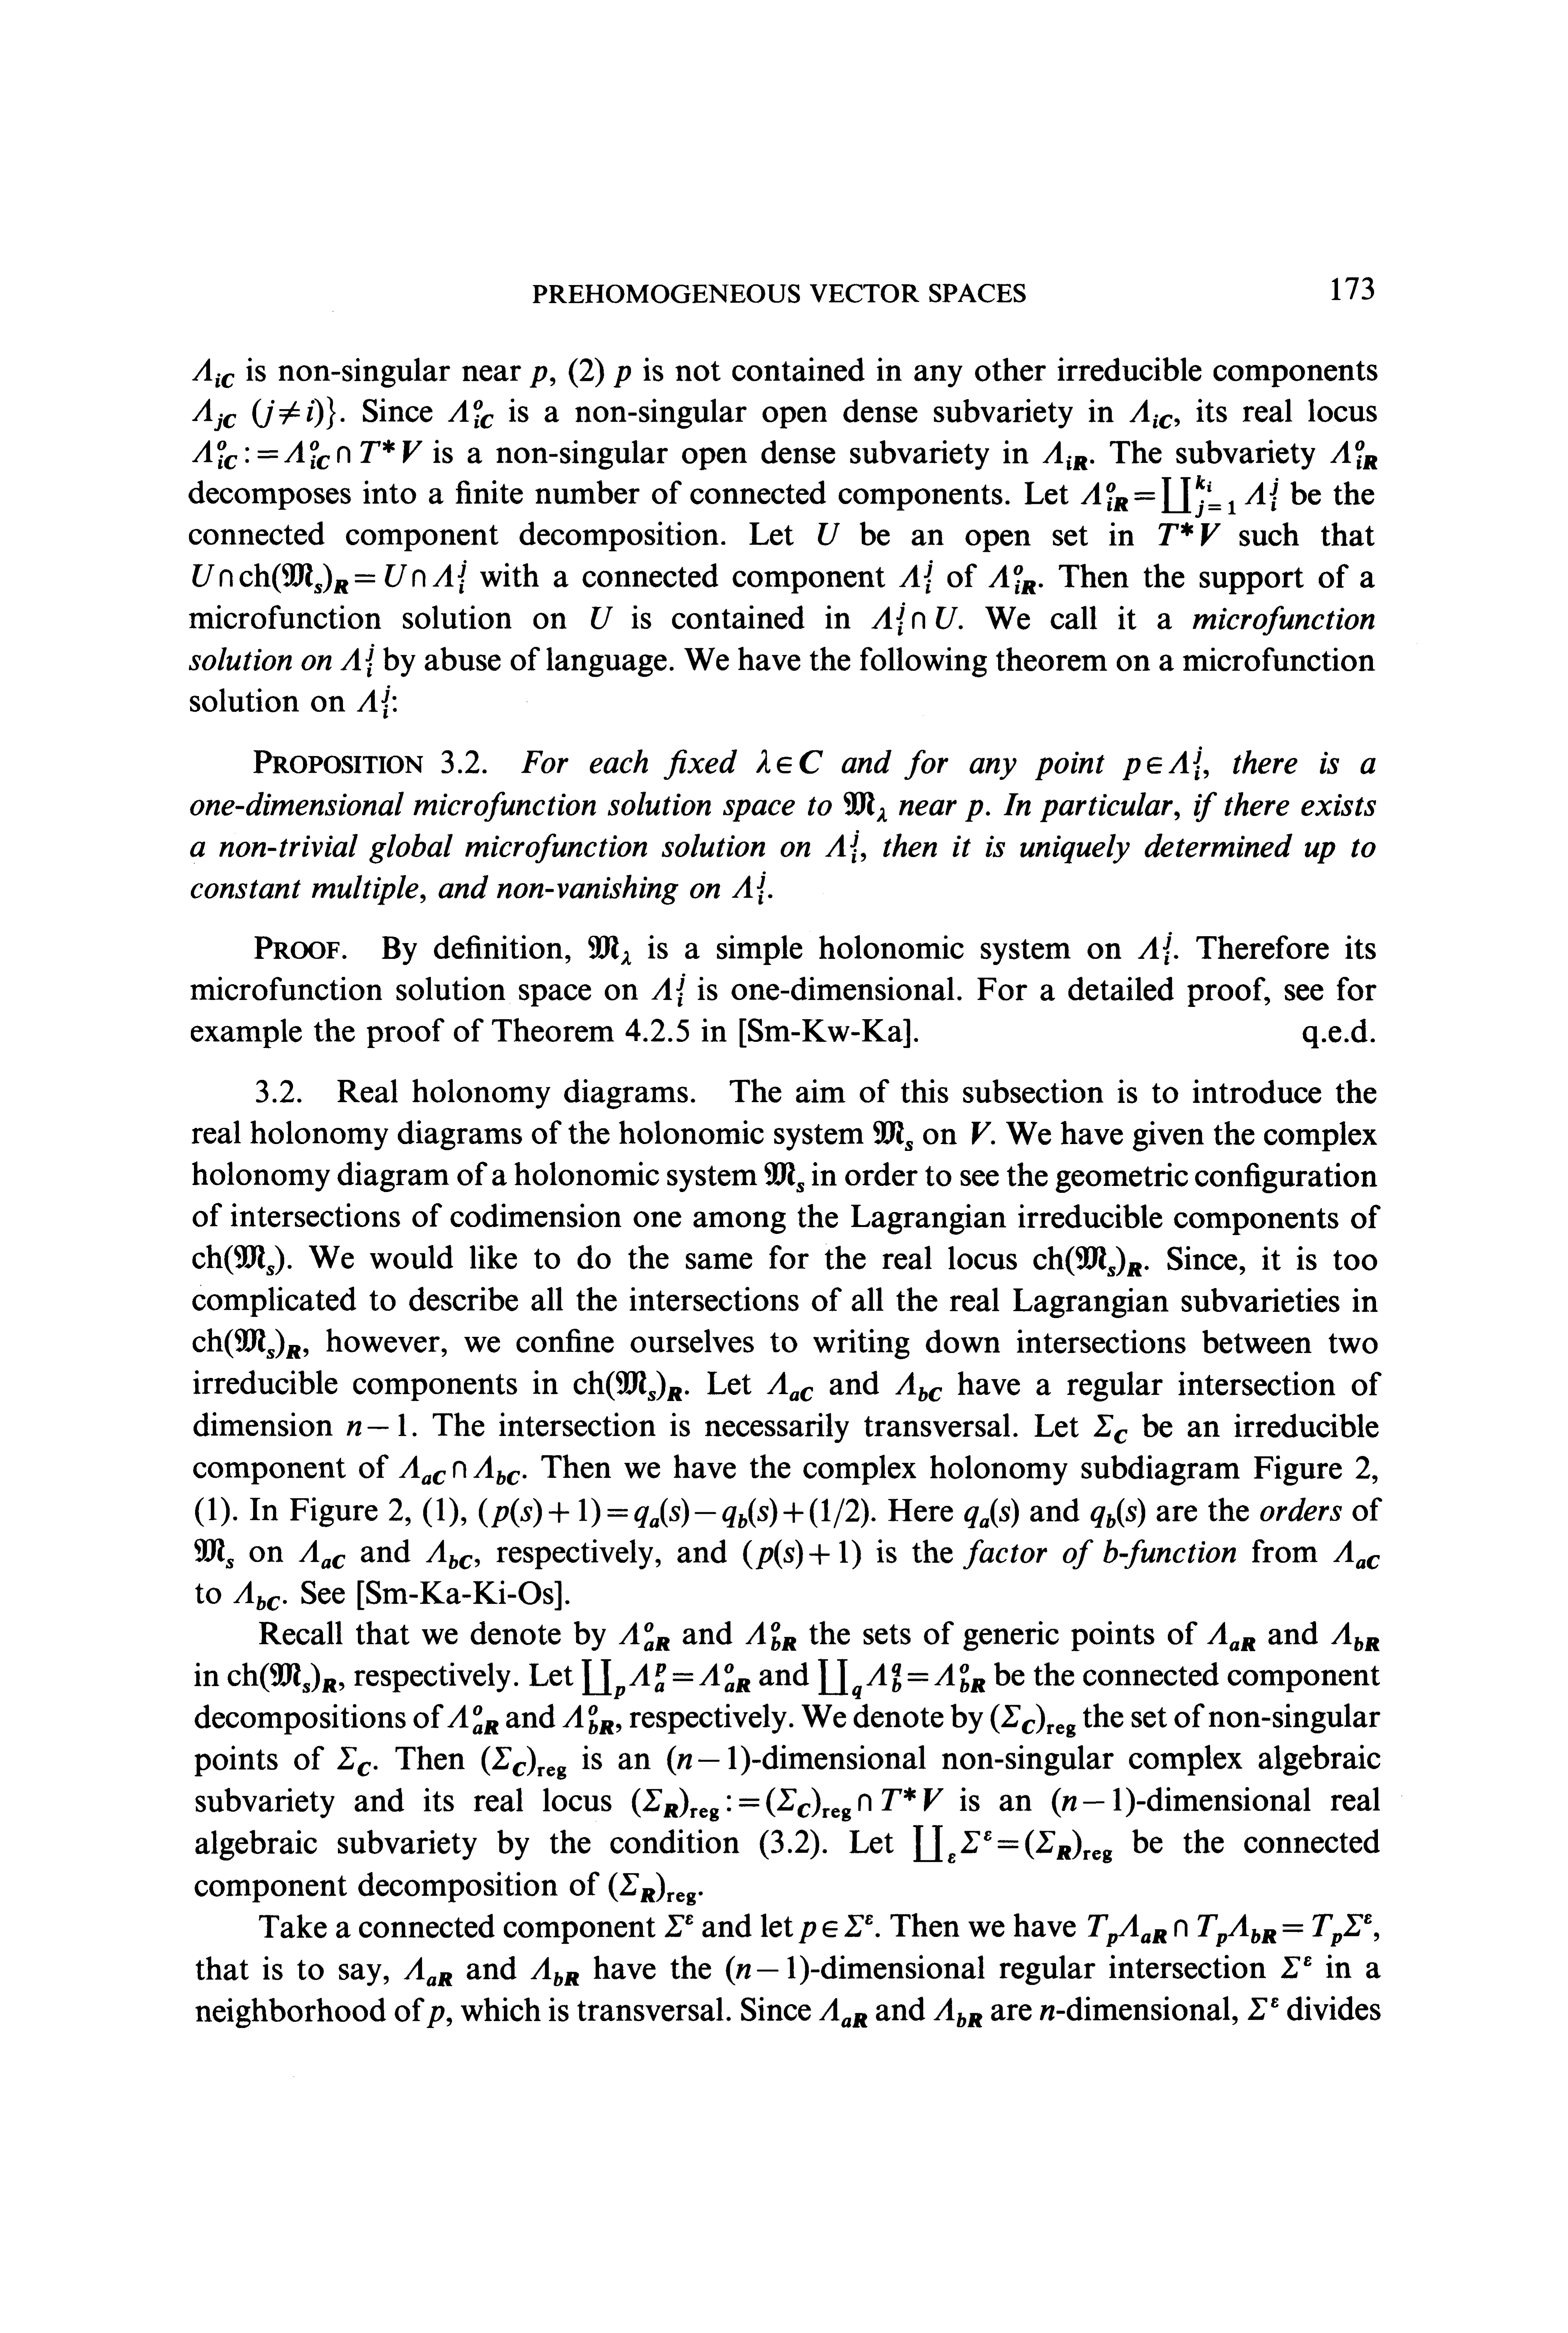maths: (480, 1498, 868, 1528), (632, 1787, 943, 1822), (1088, 1915, 1372, 1946), (1081, 474, 1277, 518), (193, 564, 465, 593), (914, 1825, 1111, 1862), (193, 439, 422, 469), (581, 1659, 749, 1699), (819, 1659, 985, 1699), (399, 1456, 520, 1484), (744, 1540, 861, 1568), (193, 1328, 301, 1358), (228, 1663, 336, 1692), (1034, 1246, 1141, 1276), (574, 1370, 681, 1400), (871, 602, 957, 635), (990, 1703, 1076, 1736), (609, 1873, 695, 1906), (252, 396, 336, 429), (481, 1747, 565, 1780), (193, 1244, 284, 1274), (1123, 747, 1202, 781), (667, 1745, 749, 1775), (1052, 1787, 1134, 1817), (726, 1955, 808, 1985), (798, 1915, 873, 1943), (431, 1705, 499, 1734), (756, 749, 822, 774), (964, 1498, 1019, 1528), (1090, 1498, 1145, 1528), (746, 1621, 796, 1650), (562, 1705, 612, 1734), (1159, 522, 1220, 546), (530, 1957, 579, 1986), (1330, 439, 1377, 469), (233, 1580, 280, 1610), (404, 1957, 451, 1986), (935, 1997, 982, 2027), (193, 399, 236, 431), (843, 791, 887, 823), (619, 1622, 668, 1650), (448, 399, 494, 429), (896, 1372, 941, 1402), (989, 565, 1036, 593), (425, 1540, 473, 1568), (1208, 1622, 1255, 1650), (1332, 1622, 1379, 1650), (819, 1999, 866, 2027), (1129, 399, 1172, 429), (766, 1372, 812, 1400), (299, 1540, 345, 1568), (1333, 1540, 1379, 1568), (346, 1414, 406, 1435), (1043, 441, 1087, 469), (193, 359, 235, 387), (588, 936, 630, 964), (873, 1120, 912, 1150), (765, 1162, 803, 1192), (194, 1538, 233, 1568), (826, 830, 859, 863), (732, 872, 765, 905), (1094, 1414, 1127, 1444), (338, 1747, 371, 1776), (900, 564, 931, 593), (341, 648, 373, 677), (357, 690, 388, 719), (1137, 936, 1171, 964), (651, 978, 684, 1006), (1248, 1997, 1277, 2020), (665, 1915, 693, 1937), (1281, 1957, 1311, 1978), (530, 366, 555, 387), (819, 523, 840, 544), (592, 607, 612, 628), (971, 1122, 990, 1145), (427, 2006, 445, 2028), (966, 800, 984, 821), (1104, 1538, 1118, 1563), (614, 366, 630, 387), (1039, 2006, 1053, 2020)
